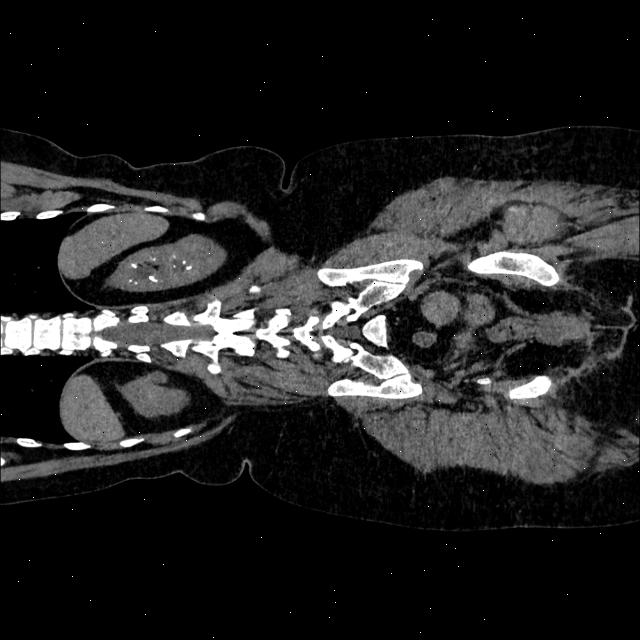kidneystone: (148, 274, 157, 281), (185, 265, 192, 269), (182, 259, 187, 264)
